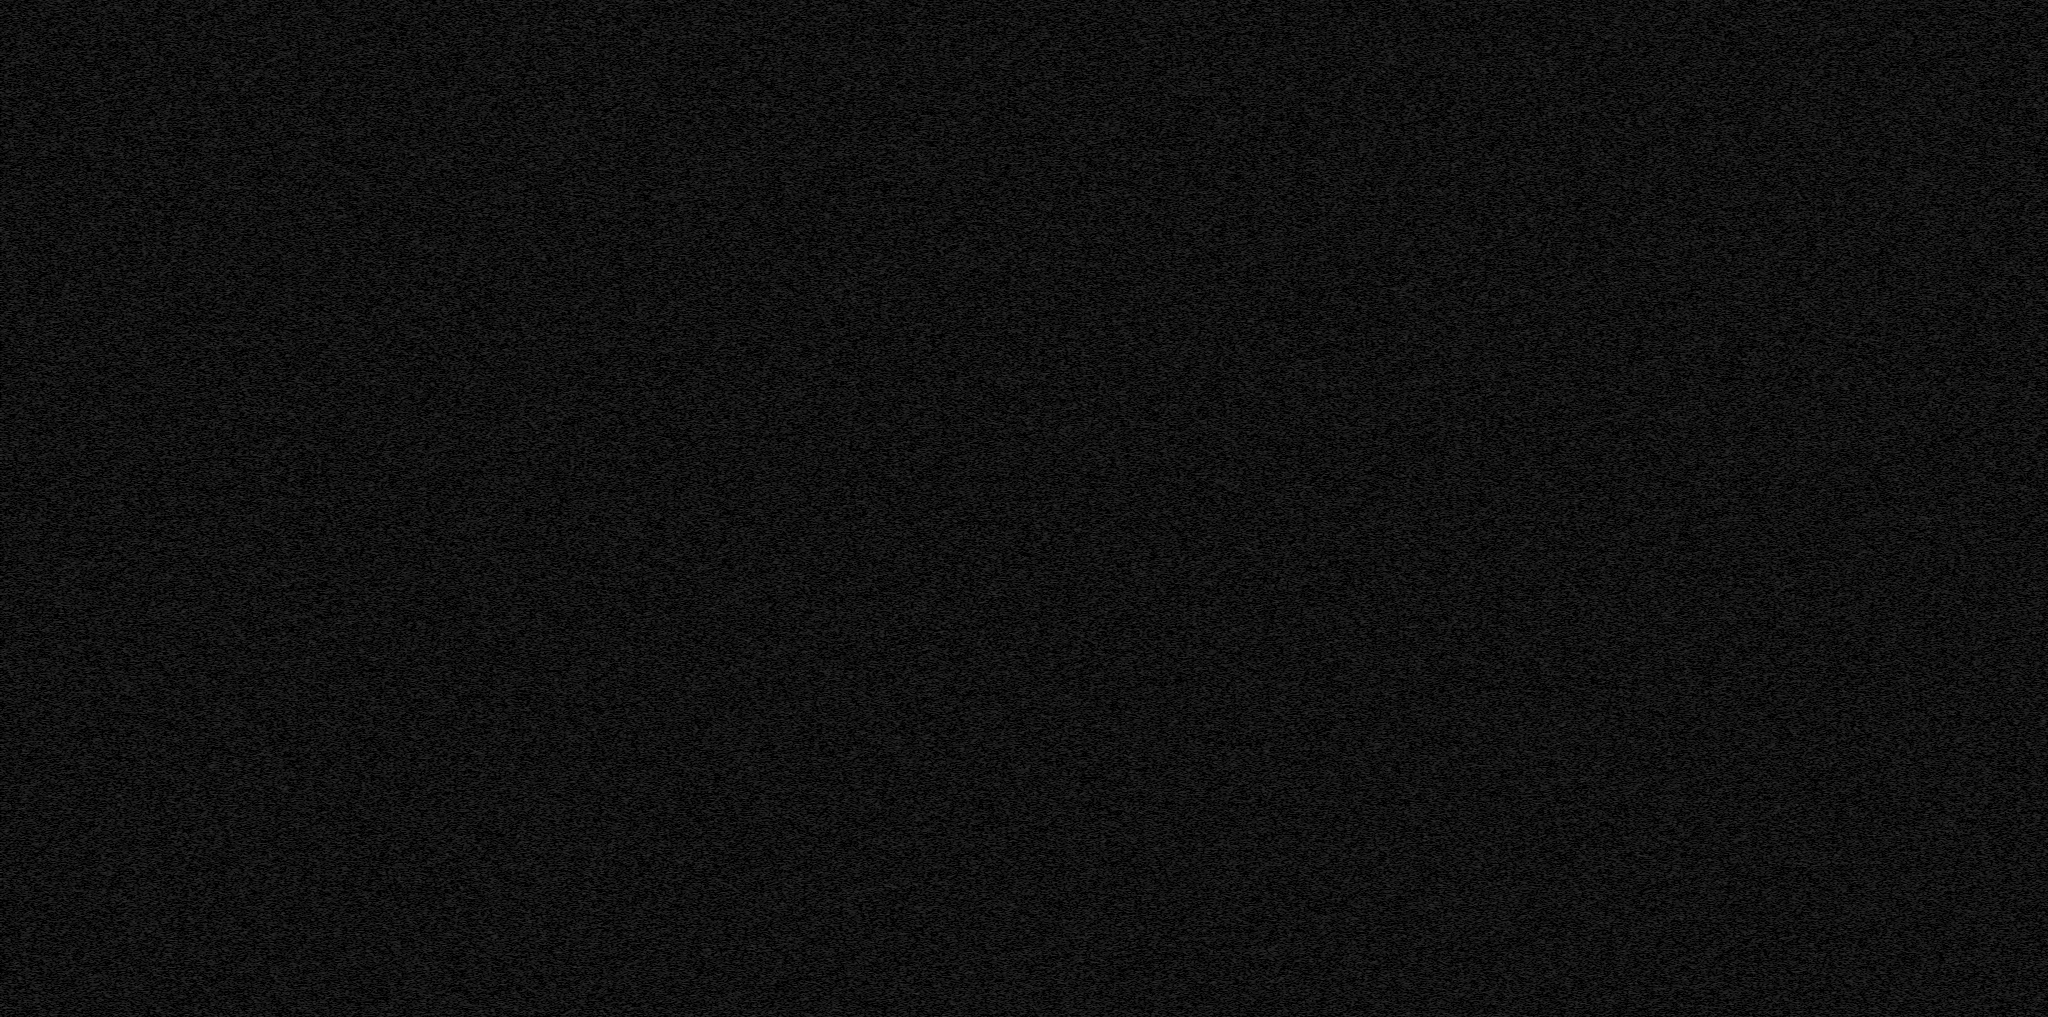wv_am: (1806, 0, 1831, 1017)
wv_cw: (1842, 0, 1857, 1017)
wv_wbfm: (1886, 0, 1917, 1017)
